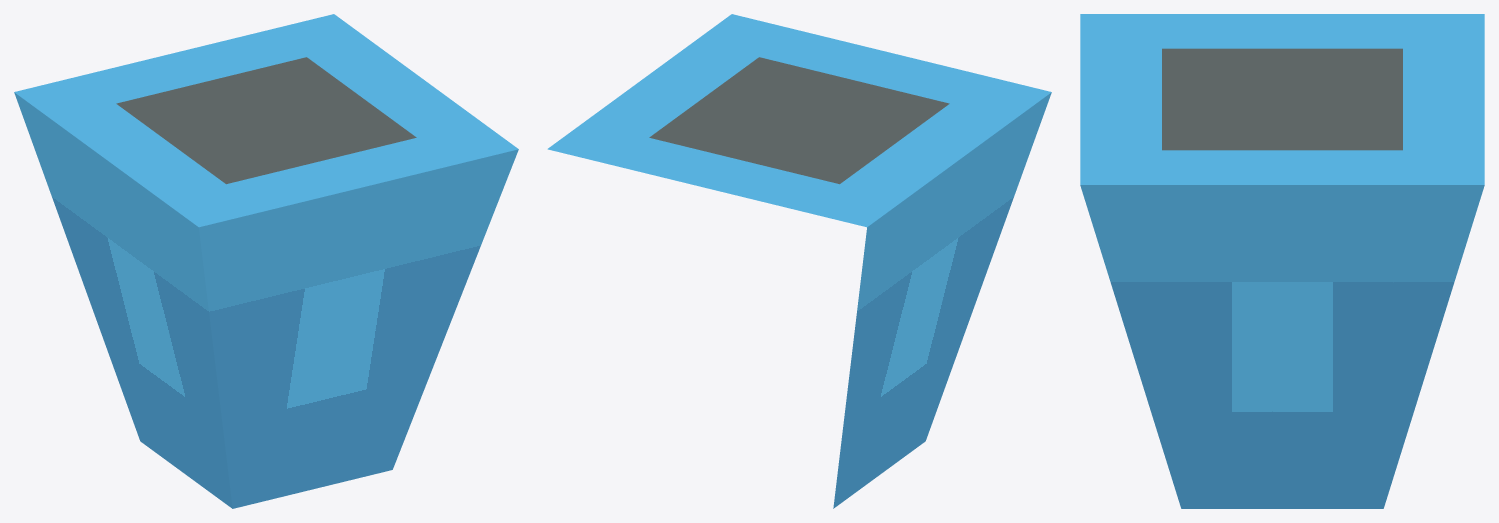
The picture shows the model from 3 angles, left to right: view 1: azimuth 30°, elevation 25°; view 2: azimuth 150°, elevation 25°; view 3: azimuth 270°, elevation 25°; orthographic projection. The views are drawn at different scales.
Size of the model in its own units: 0.875 by 0.875 by 0.875.
Materials: 1 (1 with a texture image).
